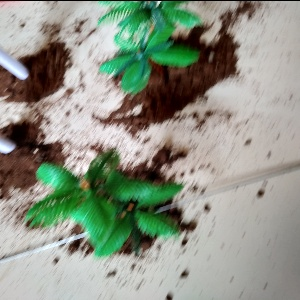plant: (18, 150, 202, 254), (88, 4, 203, 85)
